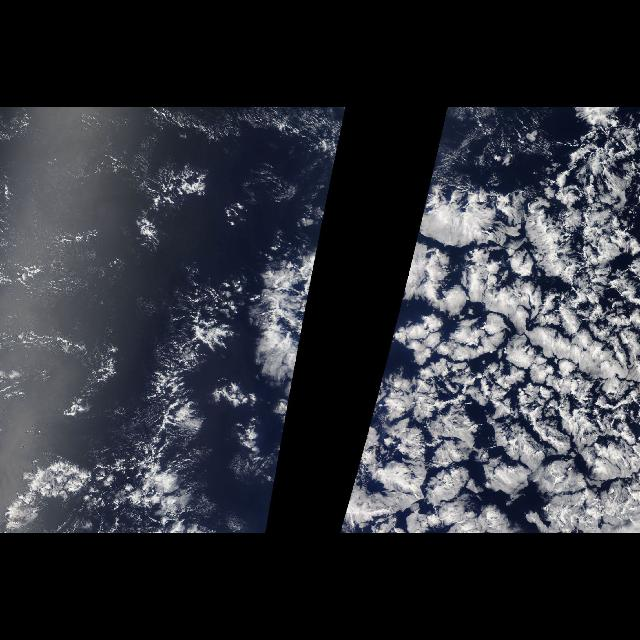Fish: (120, 258, 250, 532)
Flower: (339, 143, 639, 533), (279, 144, 339, 458)
Sugar: (2, 107, 152, 329)
